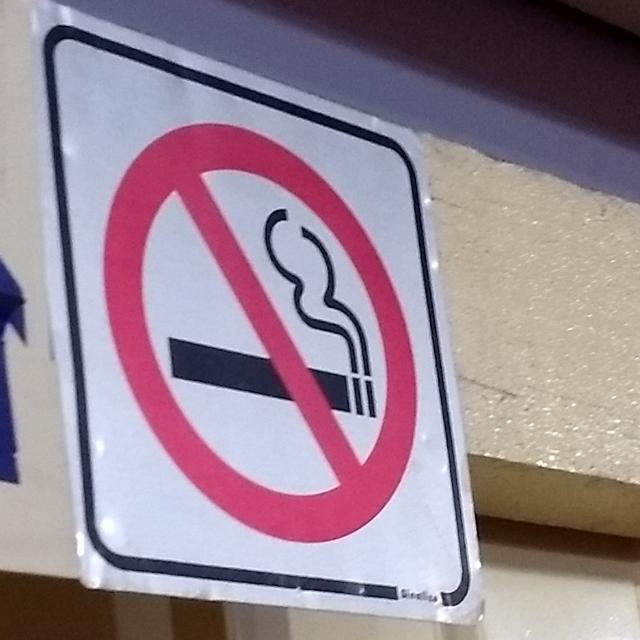cam hut thuoc: (104, 124, 416, 542)
